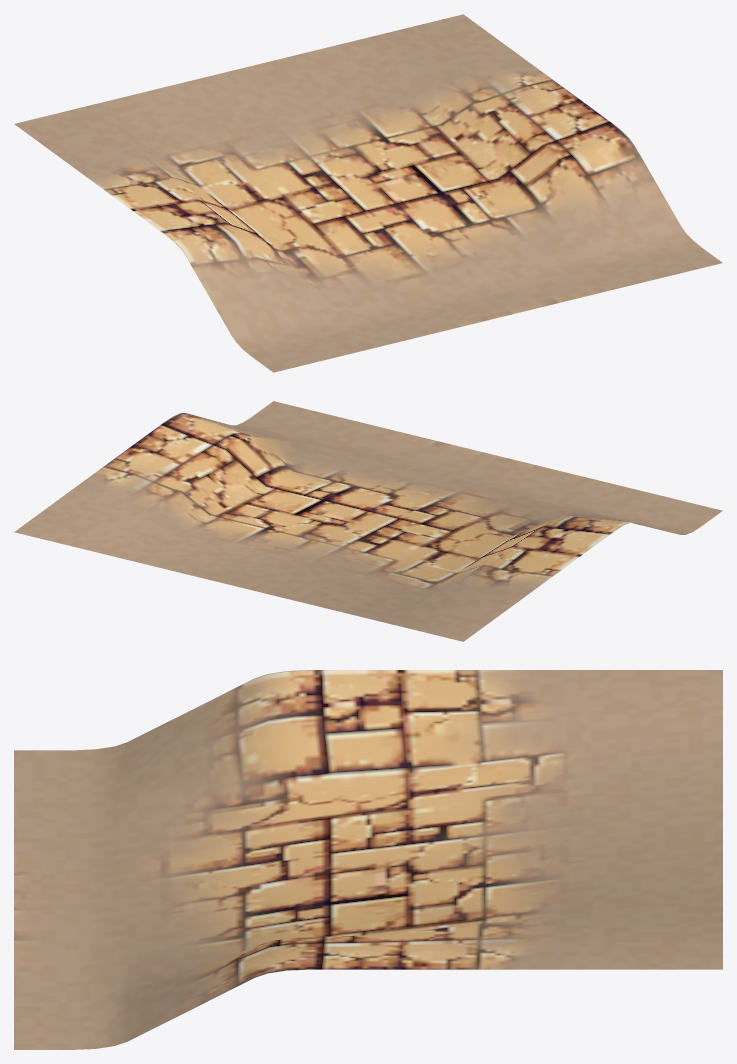
Rendered from tilesRamp.fbx.
3 renders of one model, top to bottom at view 1: azimuth 30°, elevation 25°; view 2: azimuth 150°, elevation 25°; view 3: azimuth 270°, elevation 25°, orthographic. The views are drawn at different scales.
Visible parts, largest first — view 1: edgeRamp.001; view 2: edgeRamp.001; view 3: edgeRamp.001.
Boxes of the visible parts, x1,y1,x2,y2 form: edgeRamp.001: [14, 14, 722, 372]; edgeRamp.001: [14, 401, 722, 641]; edgeRamp.001: [14, 670, 722, 1049].
Bounding box in the file's own units: 200 × 25 × 200.
